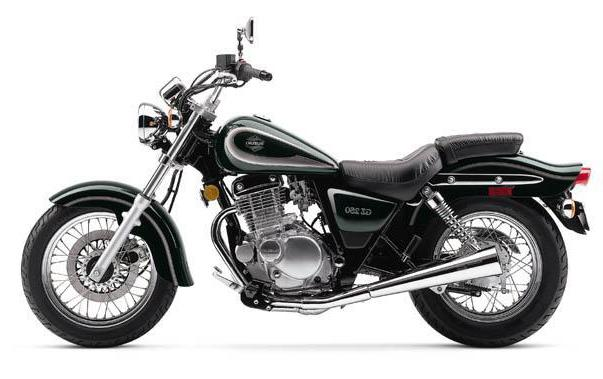motorcycle: (2, 5, 597, 366)
